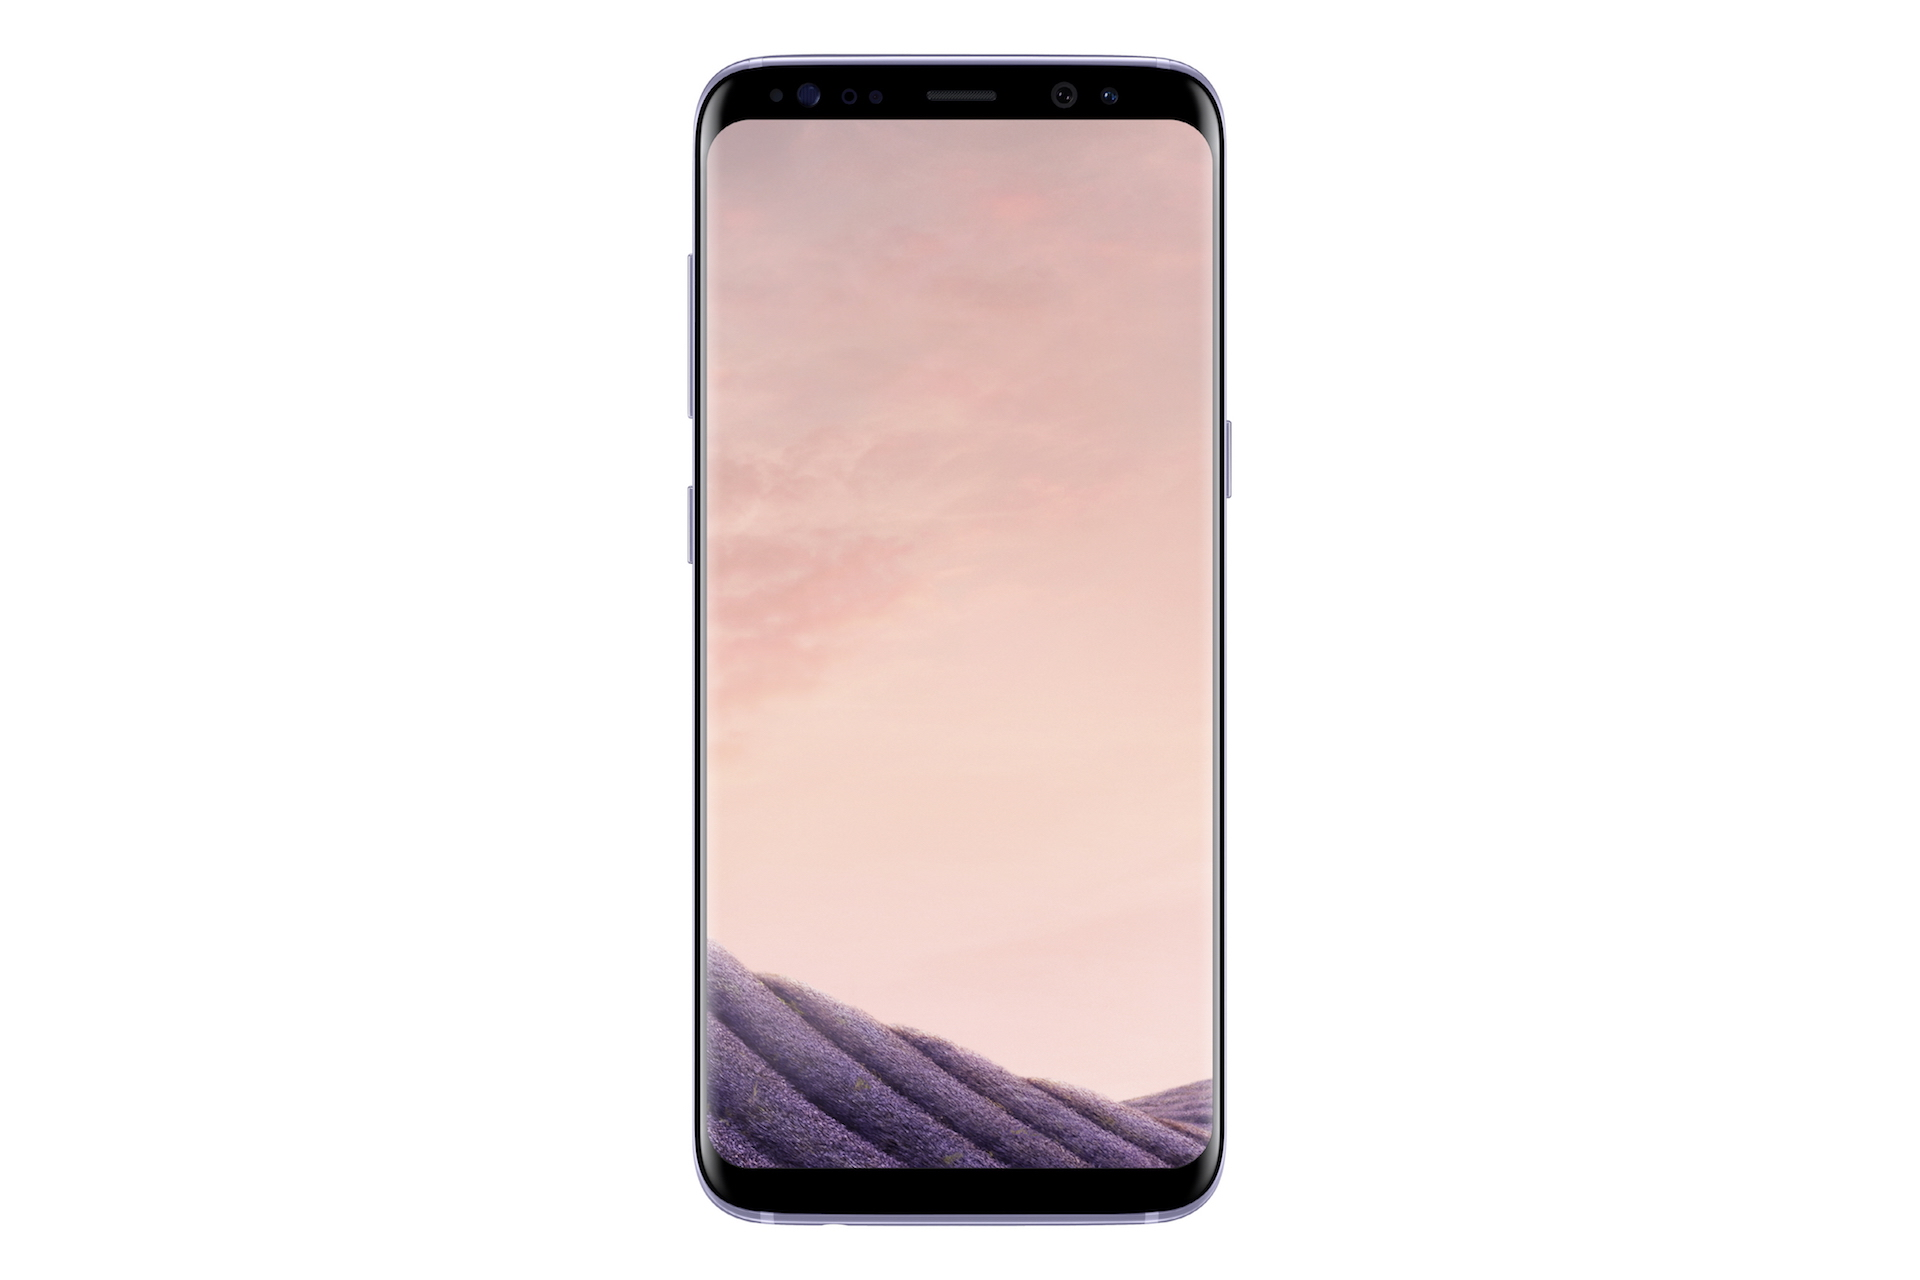smartphone: (684, 50, 1234, 1229)
